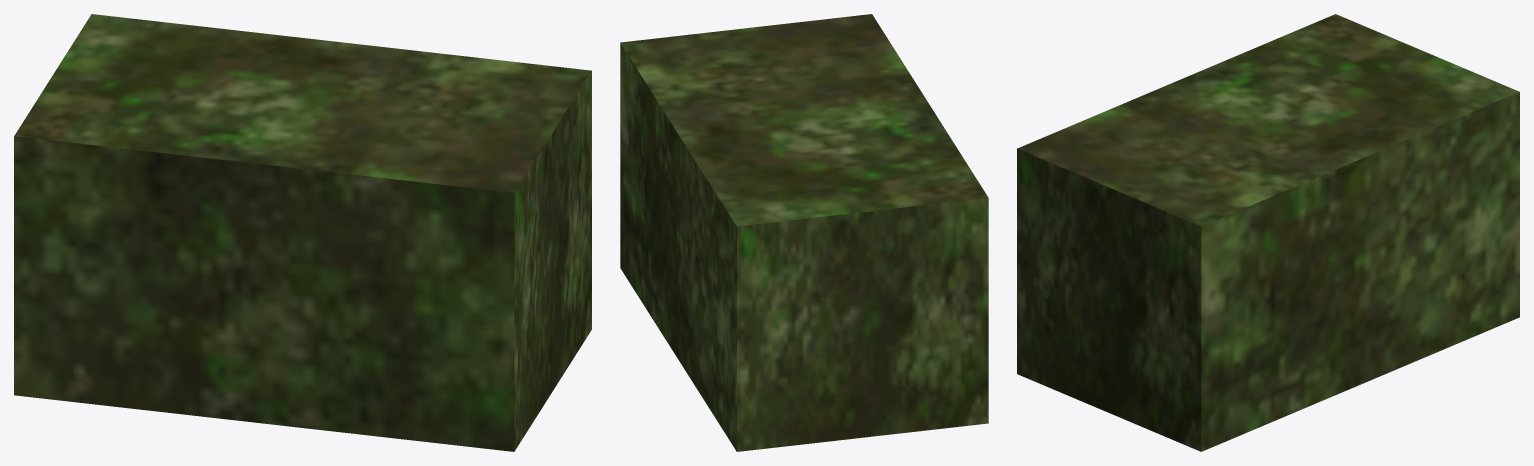
Rendered from OVERHILL_A_01_STONE_BLOCK_45.fbx.
The picture shows the model from 3 angles, left to right: view 1: azimuth 30°, elevation 25°; view 2: azimuth 150°, elevation 25°; view 3: azimuth 270°, elevation 25°; orthographic projection. The views are drawn at different scales.
Parts seen in each view (by area): view 1: OVERHILL_A_01_STONE_BLOCK_45; view 2: OVERHILL_A_01_STONE_BLOCK_45; view 3: OVERHILL_A_01_STONE_BLOCK_45.
Part boxes in pixels (left/top/right/bottom): OVERHILL_A_01_STONE_BLOCK_45: left=14, top=14, right=591, bottom=451; OVERHILL_A_01_STONE_BLOCK_45: left=620, top=14, right=988, bottom=451; OVERHILL_A_01_STONE_BLOCK_45: left=1017, top=14, right=1519, bottom=451.
Size of the model in its own units: 14525 by 7183 by 14525.
1 material, 1 textured.
